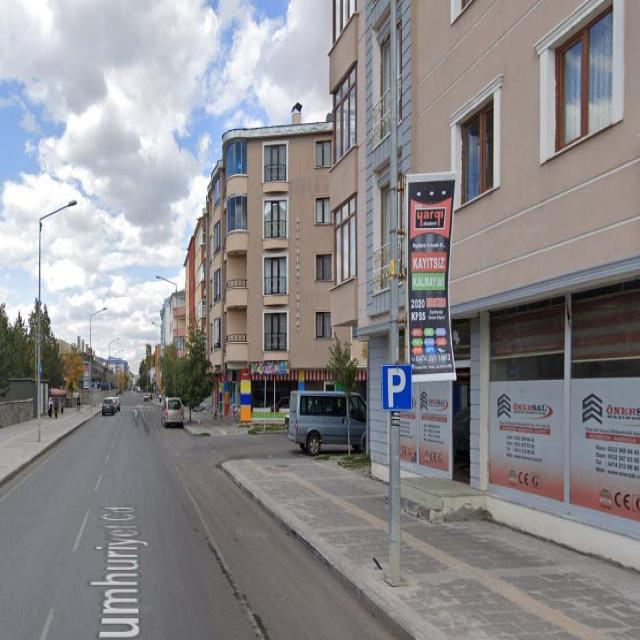park: (382, 366, 411, 411)
